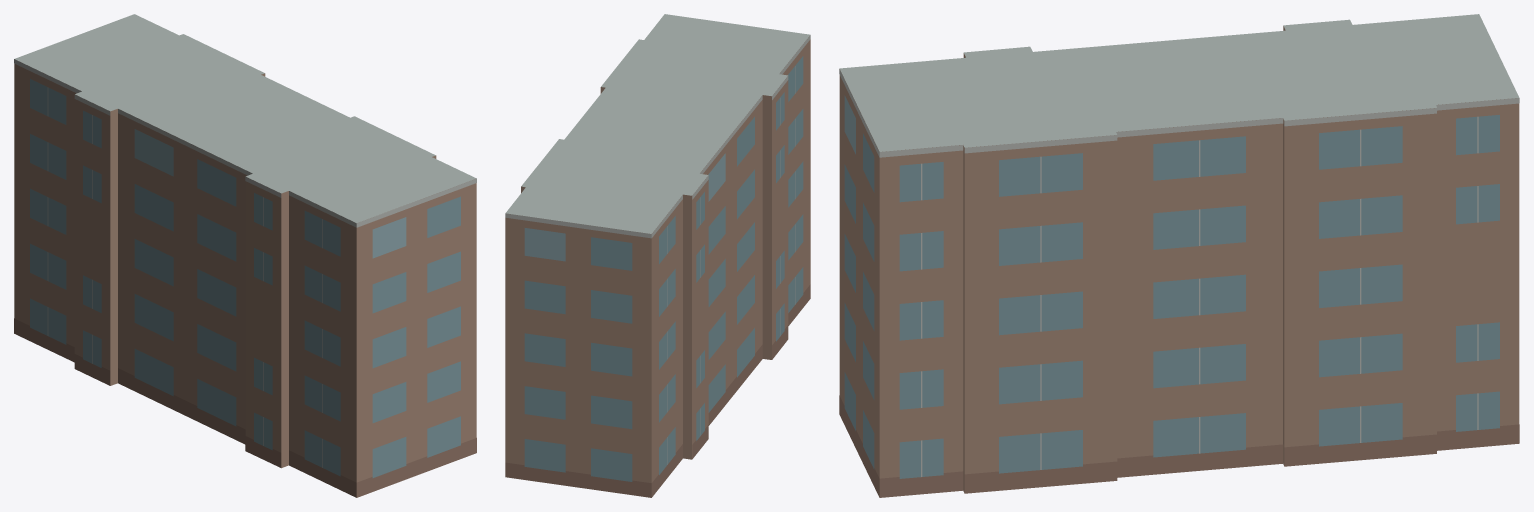
The model's file is survey-upis-32932431.glb.
The picture shows the model from 3 angles, left to right: view 1: azimuth 30°, elevation 25°; view 2: azimuth 150°, elevation 25°; view 3: azimuth 270°, elevation 25°; orthographic projection. The views are drawn at different scales.
Visible parts, largest first — view 1: survey-upis-32932431.tmp; view 2: survey-upis-32932431.tmp; view 3: survey-upis-32932431.tmp.
Boxes of the visible parts, <box> form: survey-upis-32932431.tmp: <box>14,14,476,497</box>; survey-upis-32932431.tmp: <box>505,14,810,497</box>; survey-upis-32932431.tmp: <box>839,14,1519,497</box>.
Bounding box in the file's own units: 12.67 × 14.8 × 26.38.
